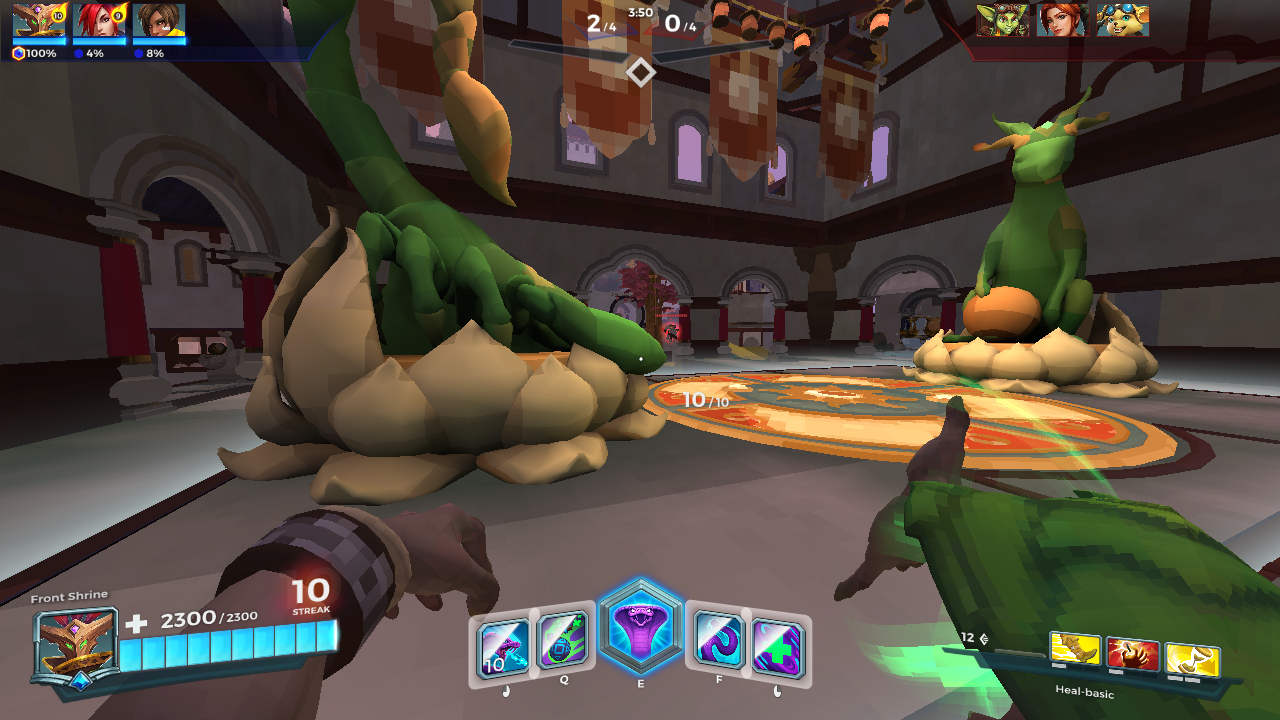model: (665, 322, 682, 343)
